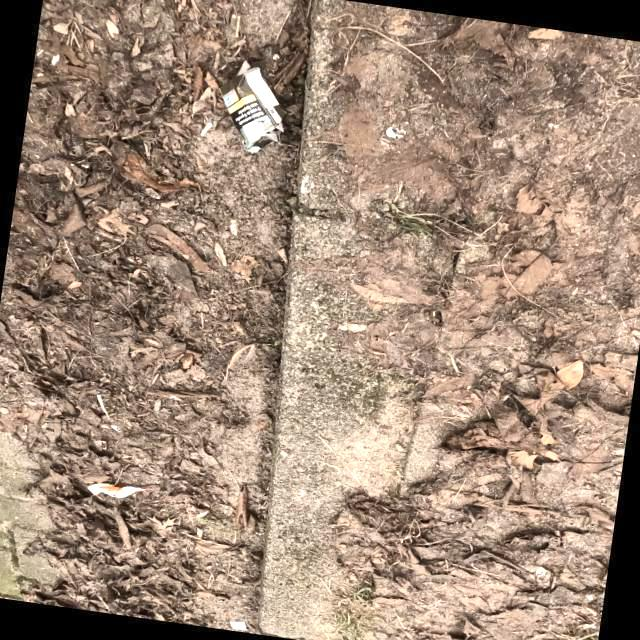Paper: (215, 59, 285, 155)
Plastic: (85, 481, 147, 499)
